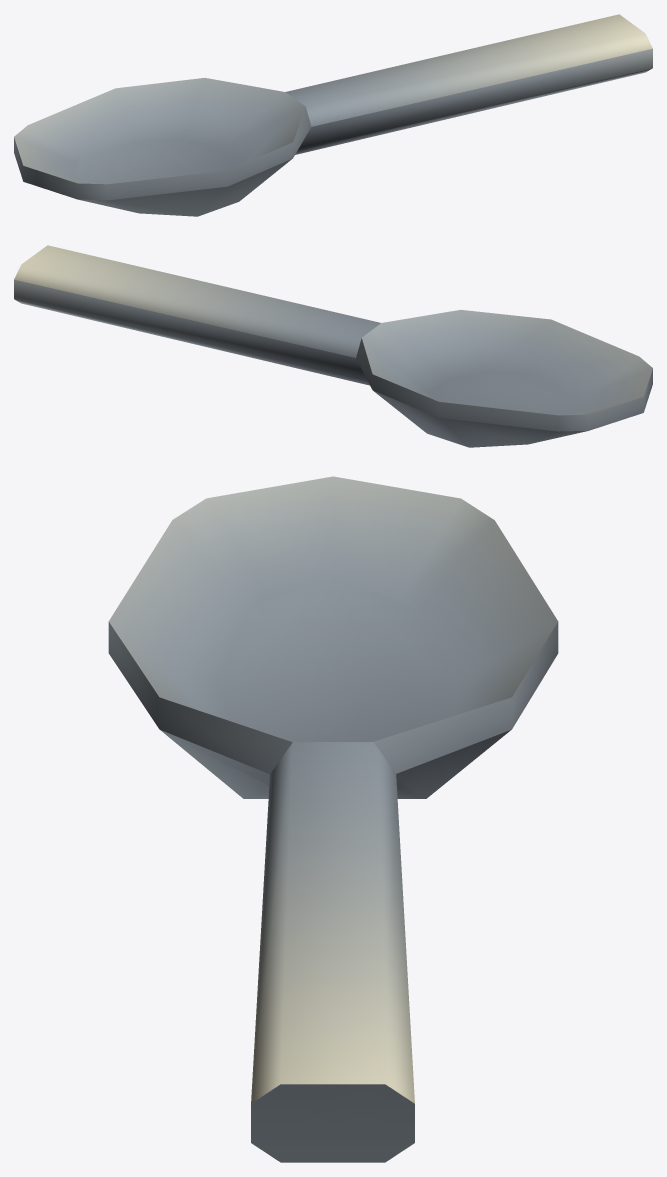
The model's file is spoon_cuttlery_silver.fbx.
3 renders of one model, top to bottom at view 1: azimuth 30°, elevation 25°; view 2: azimuth 150°, elevation 25°; view 3: azimuth 270°, elevation 25°, orthographic. The views are drawn at different scales.
Visible parts, largest first — view 1: spoon_cuttlery_silver; view 2: spoon_cuttlery_silver; view 3: spoon_cuttlery_silver.
Part boxes in pixels (box(x1,y1,x2,y2)): spoon_cuttlery_silver: box(14, 14, 652, 216); spoon_cuttlery_silver: box(14, 245, 652, 447); spoon_cuttlery_silver: box(108, 476, 558, 1162).
Size of the model in its own units: 36.83 by 3.88 by 11.77.
